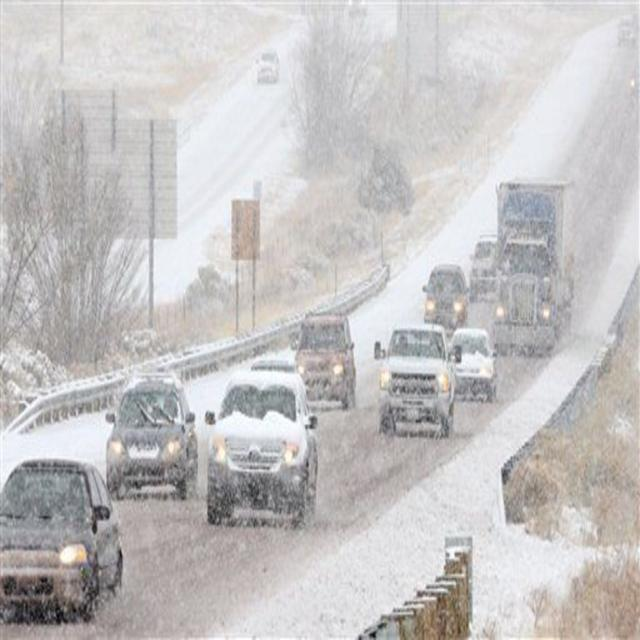bus: (494, 178, 572, 358)
car: (0, 458, 125, 622), (200, 362, 320, 532), (106, 372, 196, 501), (376, 325, 456, 440), (294, 316, 356, 411), (451, 328, 497, 402), (423, 262, 469, 333), (468, 231, 500, 297)
